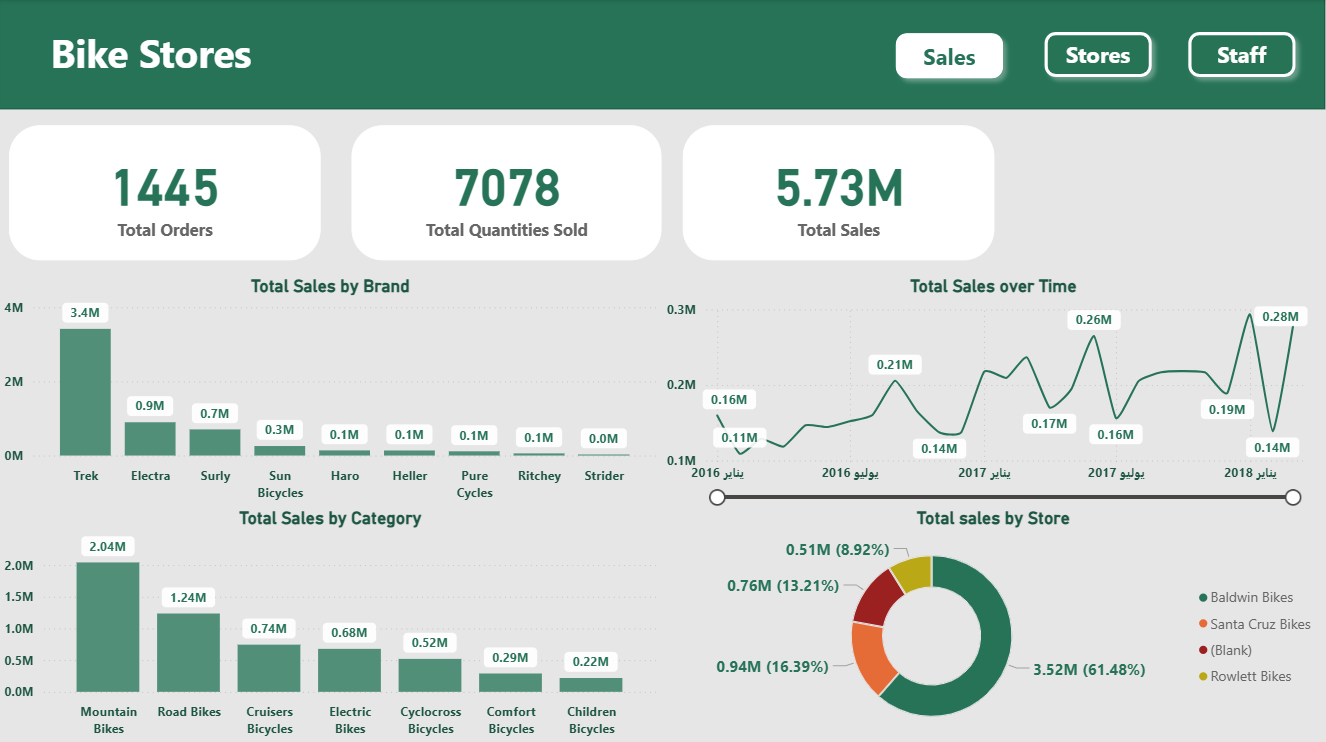

The page's visual inventory and layout, read from the dashboard file:
{"tool":"powerbi","page":{"name":"Sales","canvas":[1280,720],"ordinal":0},"visuals":[{"type":"group","id":"g1","title":"Appbar","box":[0,0,1280,106.7],"z":0},{"type":"shape","box":[0,0,1280,106.7],"z":0,"group":"g1"},{"type":"textbox","box":[44.3,21.4,252.9,62.9],"z":1000,"group":"g1"},{"type":"columnChart","title":"Total Sales by Category","fields":{"Category":["production categories.category_name"],"Y":["Sum(sales order_items.list_price)"]},"box":[0,491.6,639.5,228.7],"z":1000},{"type":"actionButton","box":[1138.6,22.9,121.4,61.4],"z":1500,"group":"g1"},{"type":"actionButton","box":[1000,22.9,121.4,61.4],"z":2000,"group":"g1"},{"type":"columnChart","title":"Total Sales by Brand","fields":{"Category":["production brands.brand_name"],"Y":["Sum(sales order_items.list_price)"]},"box":[0,266.6,639.5,225],"z":2000},{"type":"actionButton","box":[857.1,24.3,121.4,61.4],"z":2500,"group":"g1"},{"type":"donutChart","title":"Total sales by Store","fields":{"Category":["sales store_staff.store_name"],"Y":["Sum(sales order_items.list_price)"]},"box":[639.5,491.6,640.8,228.7],"z":3000},{"type":"lineChart","title":"Total Sales over Time","fields":{"Y":["Sum(sales order_items.list_price)"],"Category":["sales orders.order_date.Variation.Date Hierarchy.Year","sales orders.order_date.Variation.Date Hierarchy.Quarter","sales orders.order_date.Variation.Date Hierarchy.Month","sales orders.order_date.Variation.Date Hierarchy.Day"]},"box":[639.5,266.6,640.8,225],"z":4000},{"type":"card","fields":{"Values":["CountNonNull(sales orders.order_id)"]},"box":[9.7,121.9,300.4,130.3],"z":5000},{"type":"card","fields":{"Values":["Sum(sales order_items.quantity)"]},"box":[340.2,121.9,299.2,130.3],"z":6000},{"type":"card","fields":{"Values":["Sum(sales order_items.list_price)"]},"box":[659.9,121.9,300.4,130.3],"z":7000}]}

Visuals, with their boxes in screenshot pixels (x1, y1, x2, y2), scaled from the page's 1280x720 canvas onto the 1326x742 screenshot:
"Appbar" group: [x1=0, y1=0, x2=1325, y2=110]
shape: [x1=0, y1=0, x2=1325, y2=110]
textbox: [x1=46, y1=22, x2=308, y2=87]
"Total Sales by Category" columnChart: [x1=0, y1=507, x2=662, y2=741]
actionButton: [x1=1180, y1=24, x2=1305, y2=87]
actionButton: [x1=1036, y1=24, x2=1162, y2=87]
"Total Sales by Brand" columnChart: [x1=0, y1=275, x2=662, y2=507]
actionButton: [x1=888, y1=25, x2=1014, y2=88]
"Total sales by Store" donutChart: [x1=662, y1=507, x2=1325, y2=741]
"Total Sales over Time" lineChart: [x1=662, y1=275, x2=1325, y2=507]
card - CountNonNull(sales orders.order_id): [x1=10, y1=126, x2=321, y2=260]
card - Sum(sales order_items.quantity): [x1=352, y1=126, x2=662, y2=260]
card - Sum(sales order_items.list_price): [x1=684, y1=126, x2=995, y2=260]
